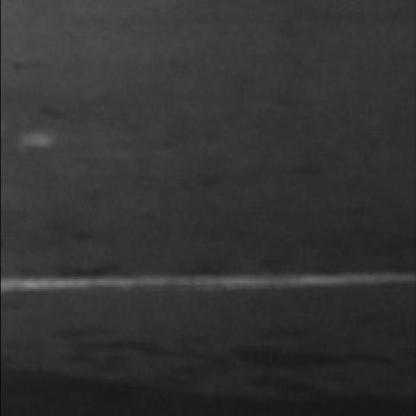scratches: (0, 260, 412, 298)
